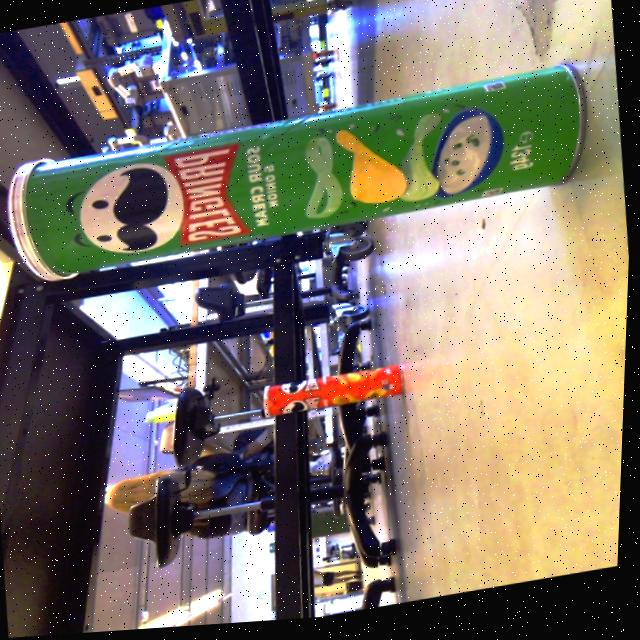greenpringles: (0, 61, 611, 302)
redpringles: (250, 365, 415, 434)
